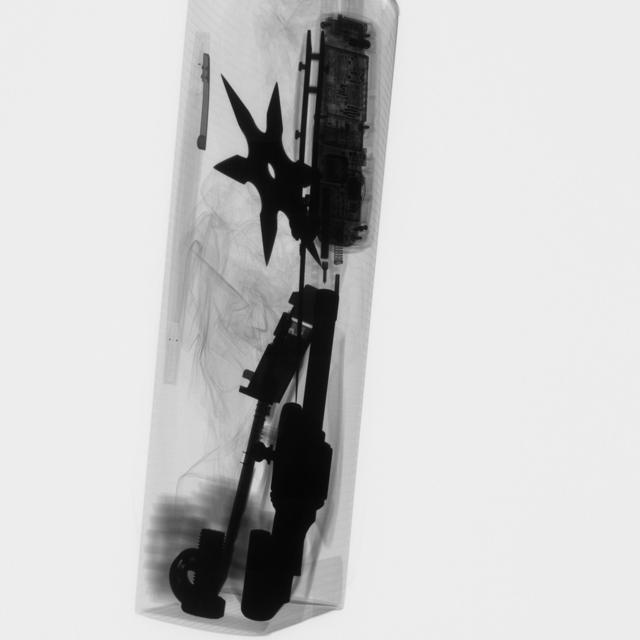gun: (239, 287, 348, 626)
shuriken: (211, 68, 323, 270)
